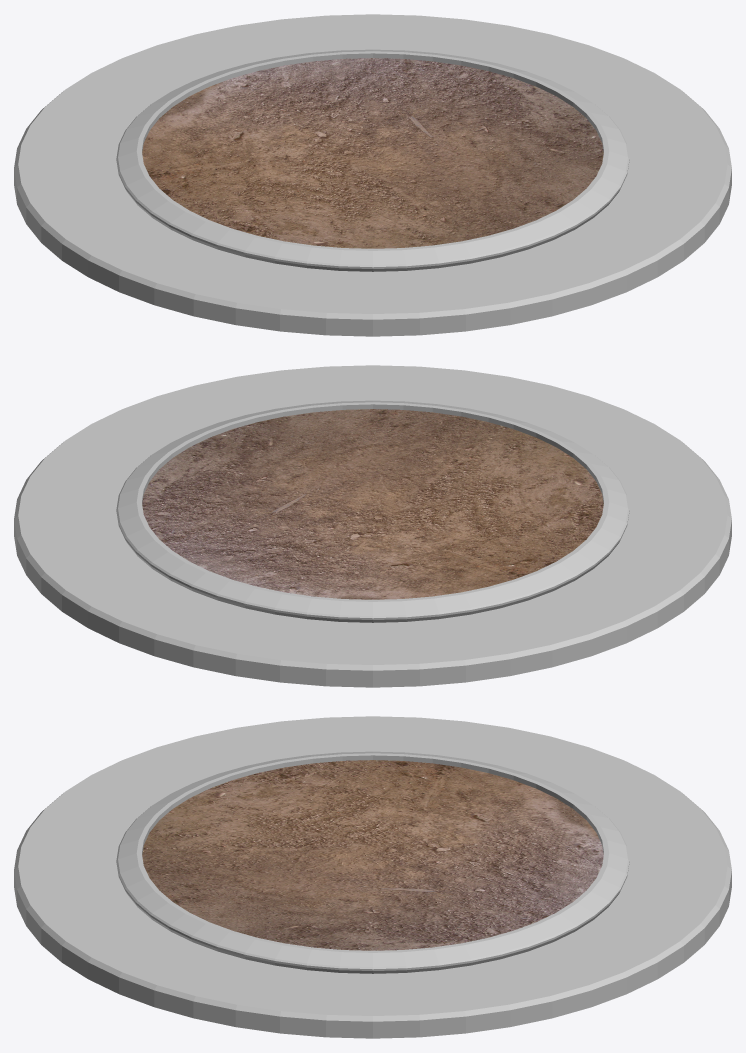
Rendered from Square.fbx.
The picture shows the model from 3 angles, top to bottom: view 1: azimuth 30°, elevation 25°; view 2: azimuth 150°, elevation 25°; view 3: azimuth 270°, elevation 25°; orthographic projection.
Visible parts, largest first — view 1: Cylinder; view 2: Cylinder; view 3: Cylinder.
Part boxes in pixels (<box>): Cylinder: <box>14,14,731,336</box>; Cylinder: <box>14,365,731,687</box>; Cylinder: <box>14,716,731,1038</box>.
Size of the model in its own units: 860 by 44.74 by 860.
